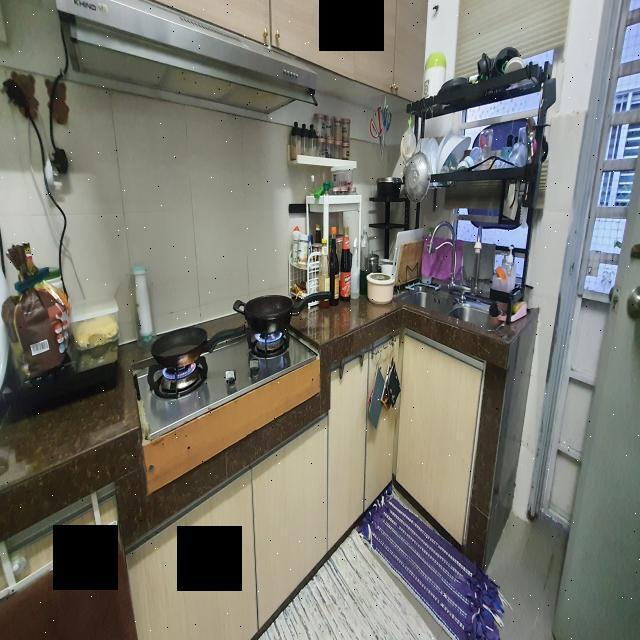Flame: (162, 364, 201, 384), (252, 333, 286, 346)
Pan: (230, 293, 340, 331), (151, 331, 254, 357)
